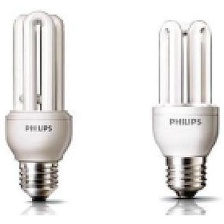light_bulb: (2, 7, 74, 204), (148, 12, 222, 203)
